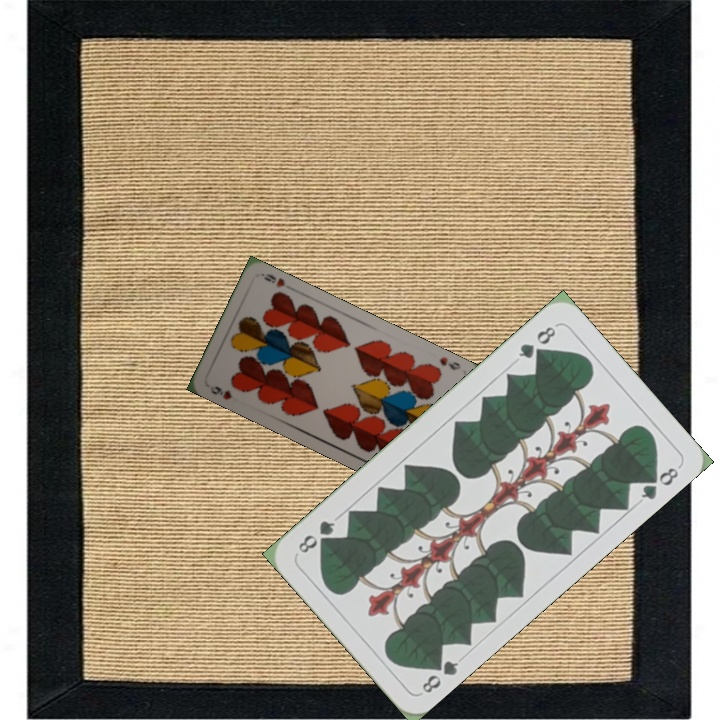G8: (418, 653, 461, 696), (514, 322, 559, 362)
H9: (206, 382, 235, 403), (435, 353, 463, 373)
